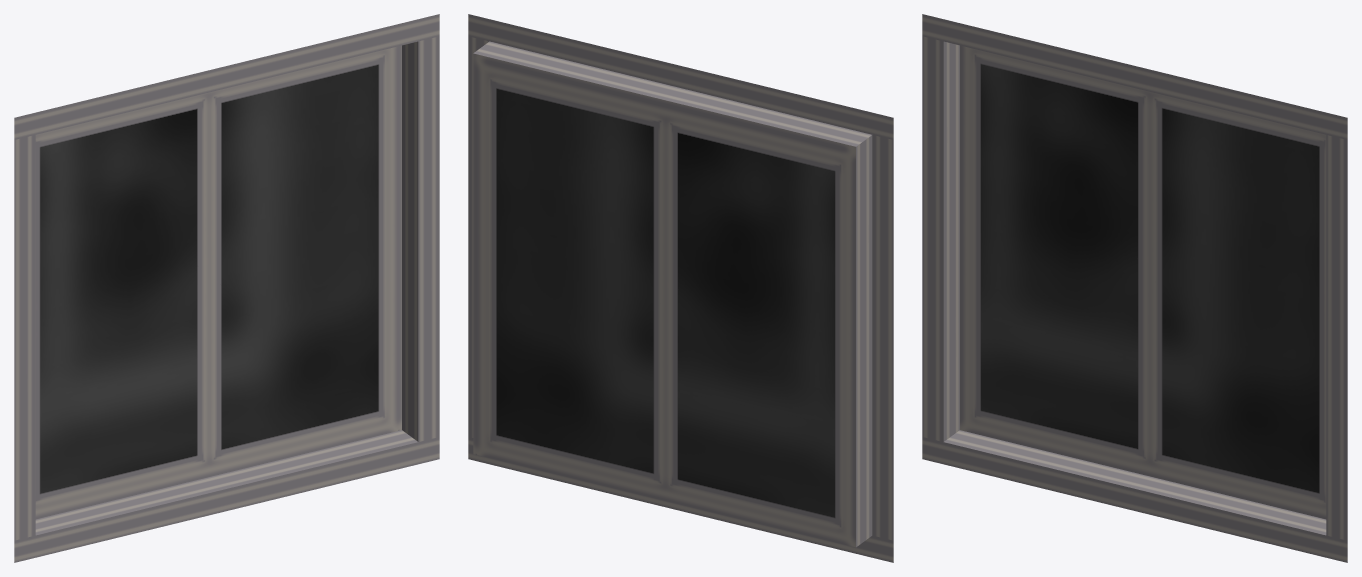
Rendered from SM_ENV_K3_WINDOW_02.fbx.
3 renders of one model, left to right at view 1: azimuth 30°, elevation 25°; view 2: azimuth 150°, elevation 25°; view 3: azimuth 330°, elevation 25°, orthographic.
Visible parts, largest first — view 1: SM_ENV_K3_WINDOW_02; view 2: SM_ENV_K3_WINDOW_02; view 3: SM_ENV_K3_WINDOW_02.
Boxes of the visible parts, x1=… form: SM_ENV_K3_WINDOW_02: x1=14, y1=14, x2=439, y2=562; SM_ENV_K3_WINDOW_02: x1=468, y1=14, x2=893, y2=562; SM_ENV_K3_WINDOW_02: x1=922, y1=14, x2=1347, y2=562.
Bounding box in the file's own units: 1.5 × 1.5 × 0.1.
